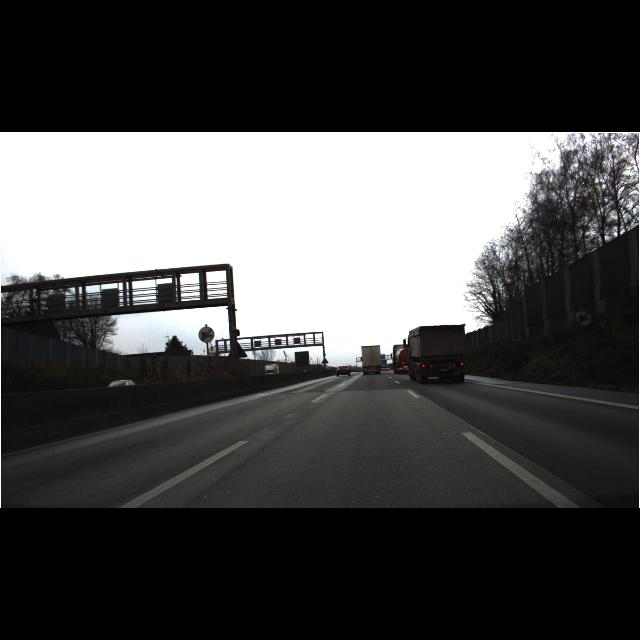other: (198, 327, 214, 343), (575, 310, 591, 326)
